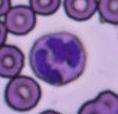N: (29, 31, 86, 85)
